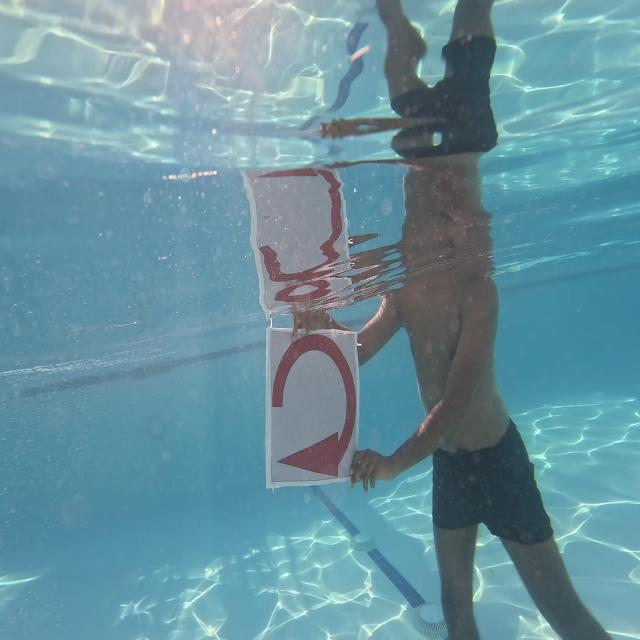red_side: (260, 320, 370, 500)
